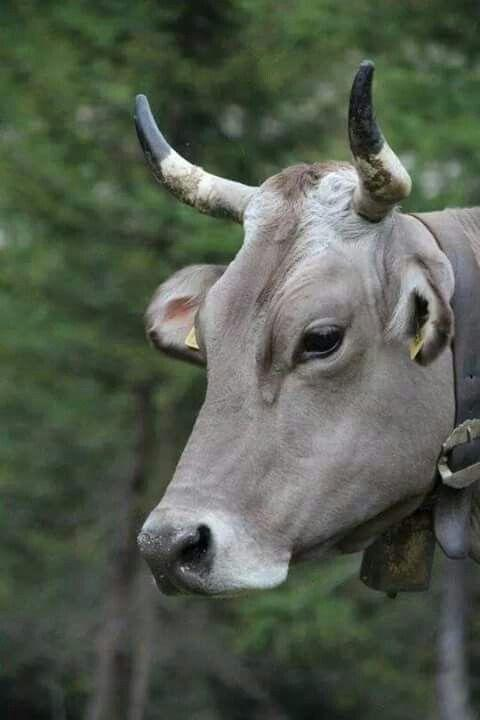cow: (92, 70, 474, 628)
